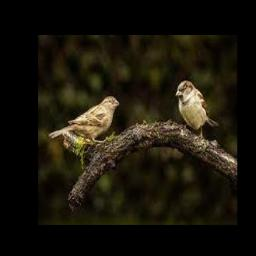Sparrow: (49, 94, 119, 142), (175, 80, 219, 140)
